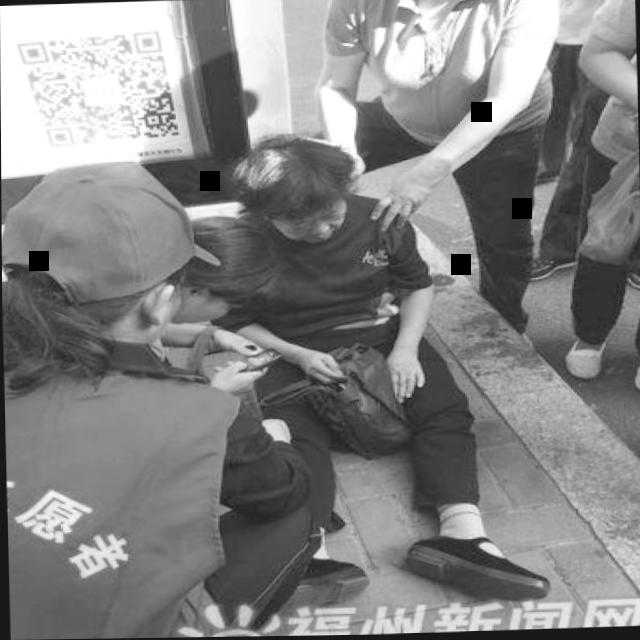Fall-Detected: (190, 120, 558, 636)
